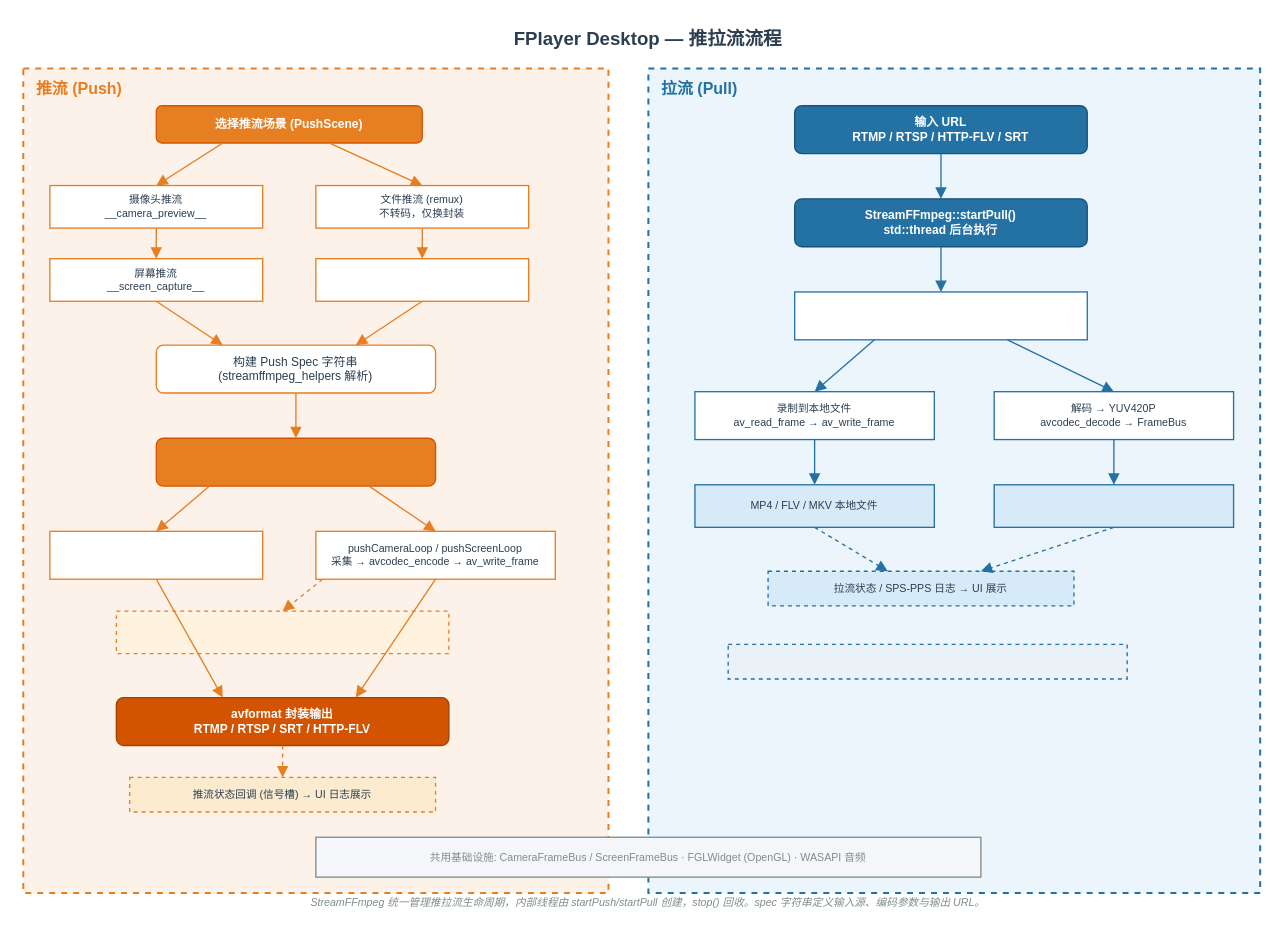
Some shapes in this 1285 by 936 pixel diagram are drawn without their labels. Here are the shapes that lost their labels. From the top down, the centre of each, then its label:
At point 422,279: "组合推流 (compose) 多源画布合成".
At point 940,315: "avformat_open_input 解封装 → 获取流信息".
At point 295,461: "StreamFFmpeg::startPush() std::thread 后台执行".
At point 1113,505: "FGLWidget 渲染预览 + 音量控制".
At point 156,554: "remuxLoop av_read_frame → av_write_frame".
At point 282,632: "AudioPipeline (WASAPI loopback) 音频采集 → swresample → 编码混入".
At point 927,661: "用户停止 / 流结束 → StreamFFmpeg::stop() → 释放资源".
